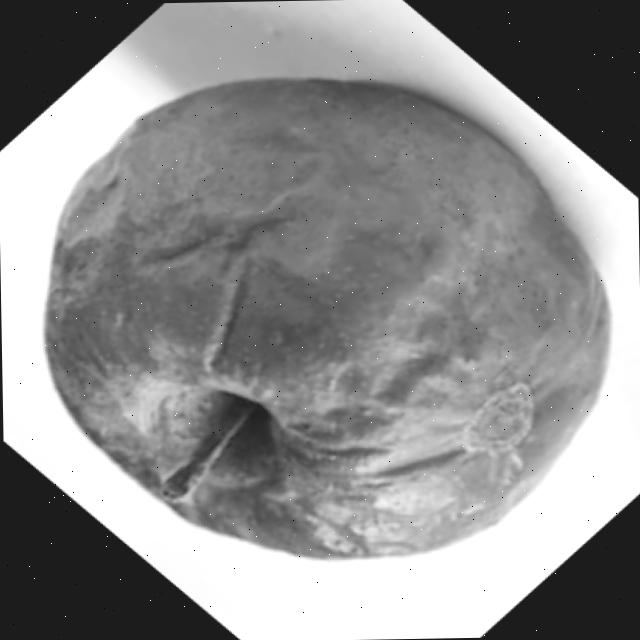Rotten: (32, 66, 621, 572)
